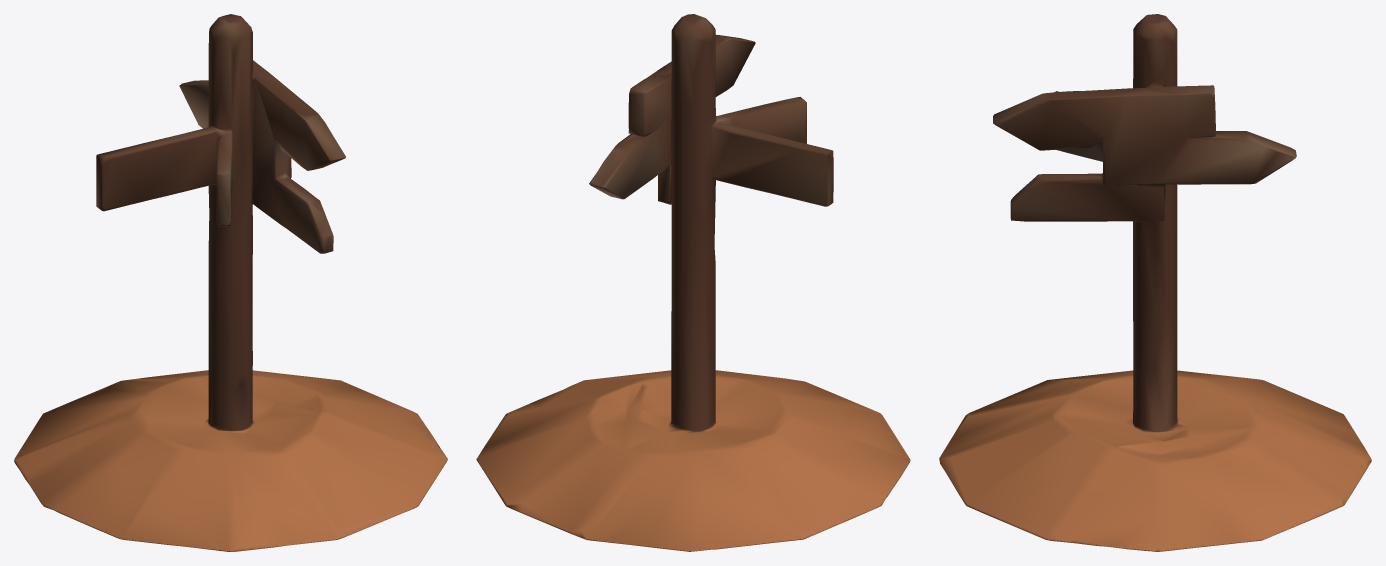
Rendered from gen3d-desert-signpost-lod1.glb.
The picture shows the model from 3 angles, left to right: view 1: azimuth 30°, elevation 25°; view 2: azimuth 150°, elevation 25°; view 3: azimuth 270°, elevation 25°; orthographic projection.
Parts seen in each view (by area): view 1: part_0; view 2: part_0; view 3: part_0.
Boxes of the visible parts, x1,y1,x2,y2 form: part_0: (14, 14, 447, 551); part_0: (476, 14, 910, 551); part_0: (939, 14, 1371, 551).
Size of the model in its own units: 0.8875 by 0.9999 by 0.8862.
